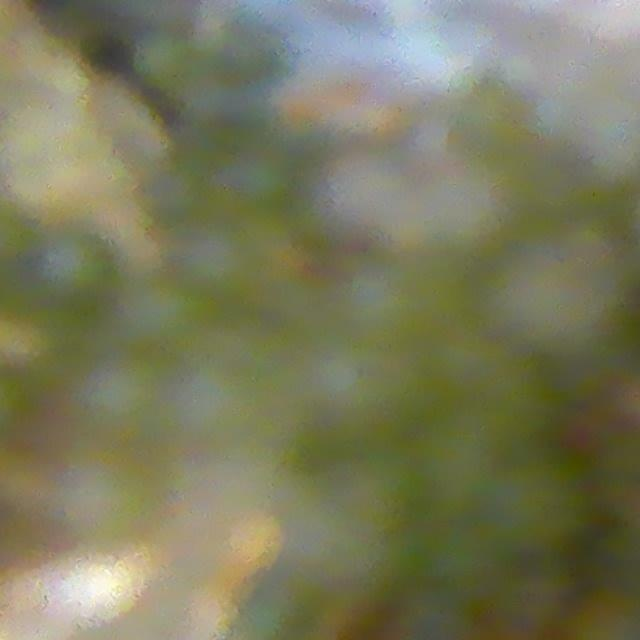SeaGrape: (118, 270, 208, 353), (35, 228, 113, 304)
